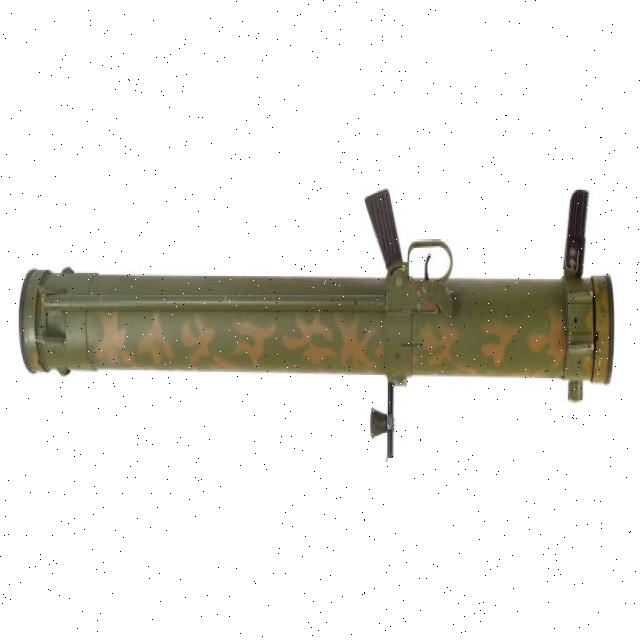bazooka: (16, 172, 621, 467)
